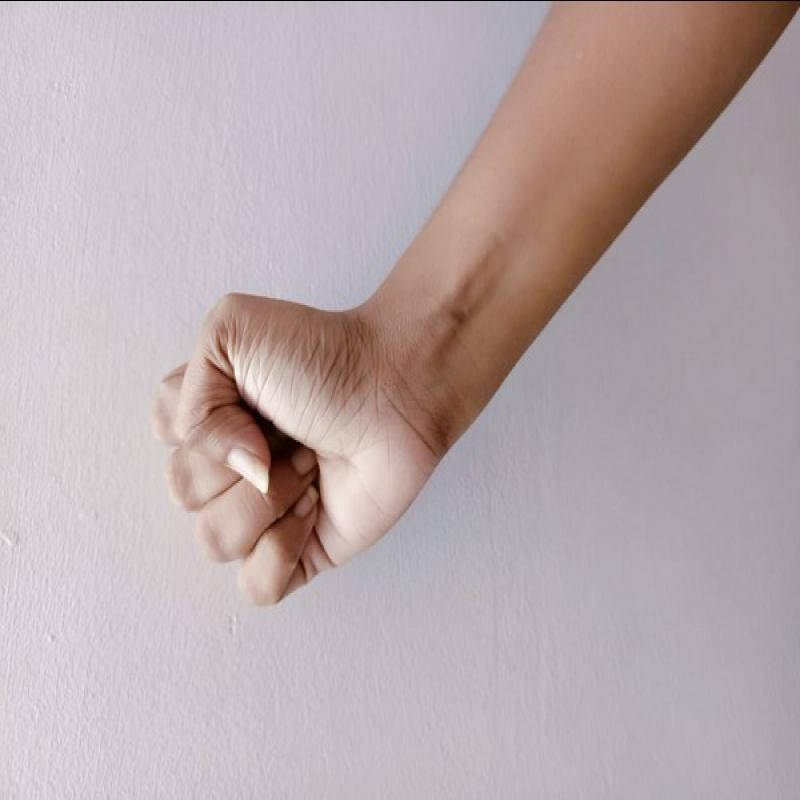Mushti: (126, 283, 443, 622)
